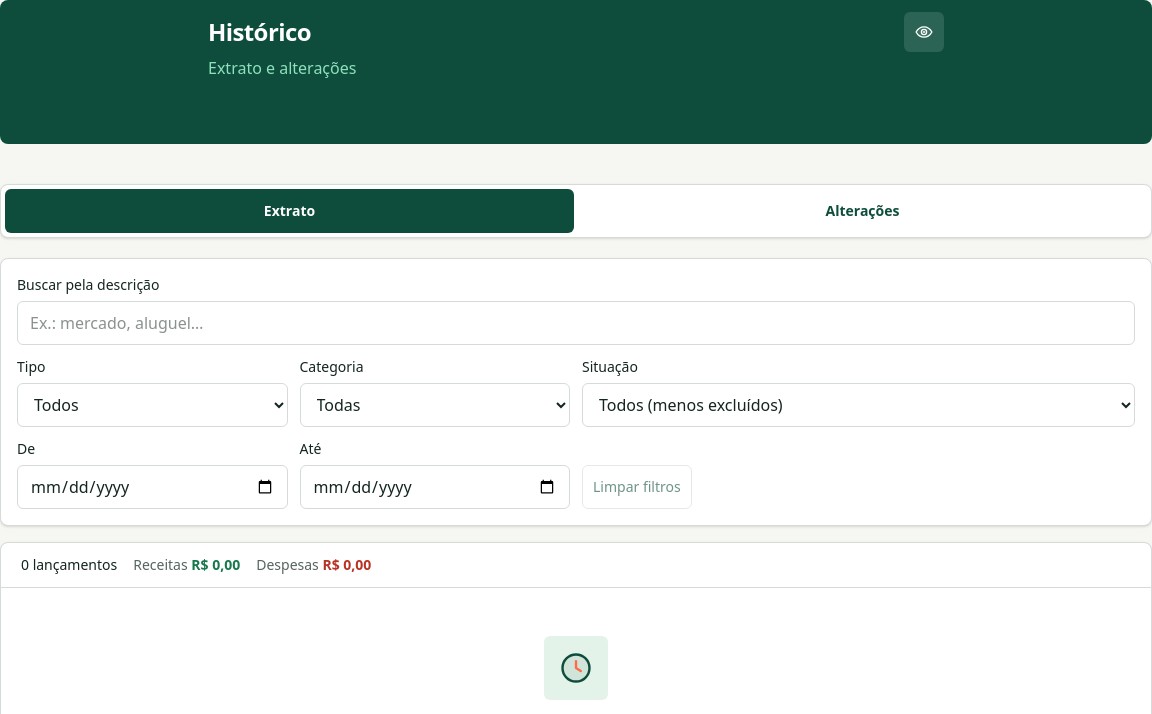
Test: Histórico: extrato › busca espera a pessoa parar de digitar e manda o texto sem espaços nas pontas
Type " mercado " into the search field labelled "Buscar pela descrição" at x=576, y=323, box [17, 301, 1135, 345]
(page scrolled)
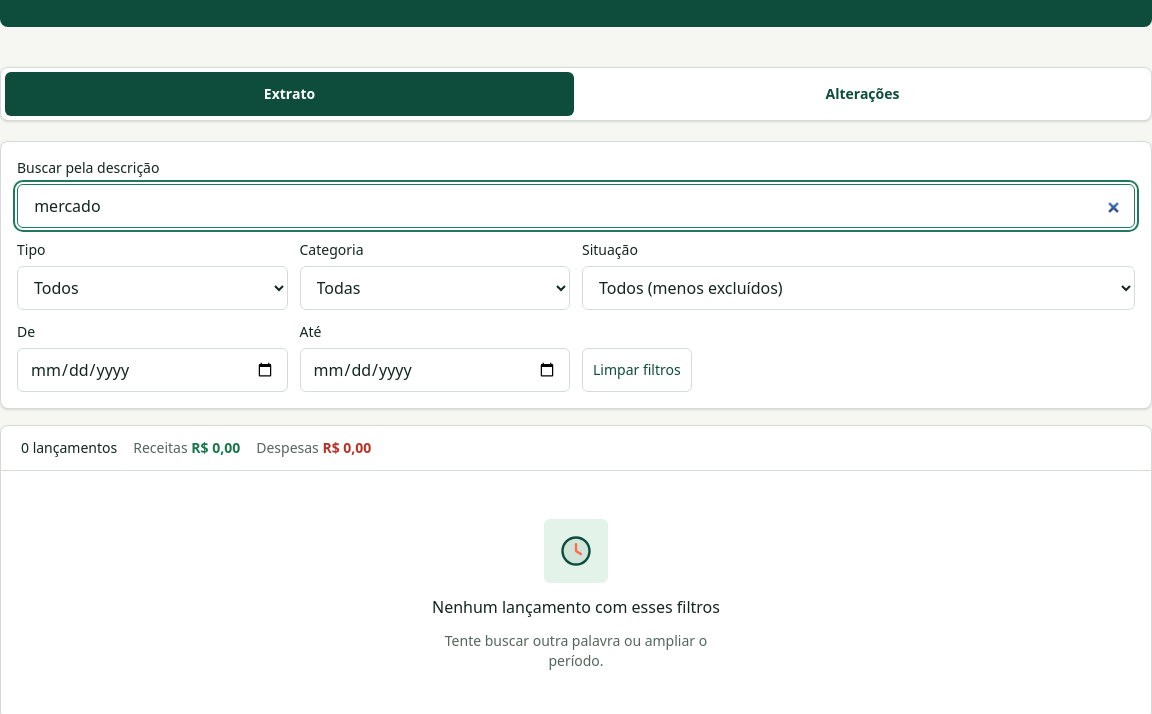
Now the text "Nenhum lançamento com esses filtros" is shown, box [432, 595, 720, 619]
